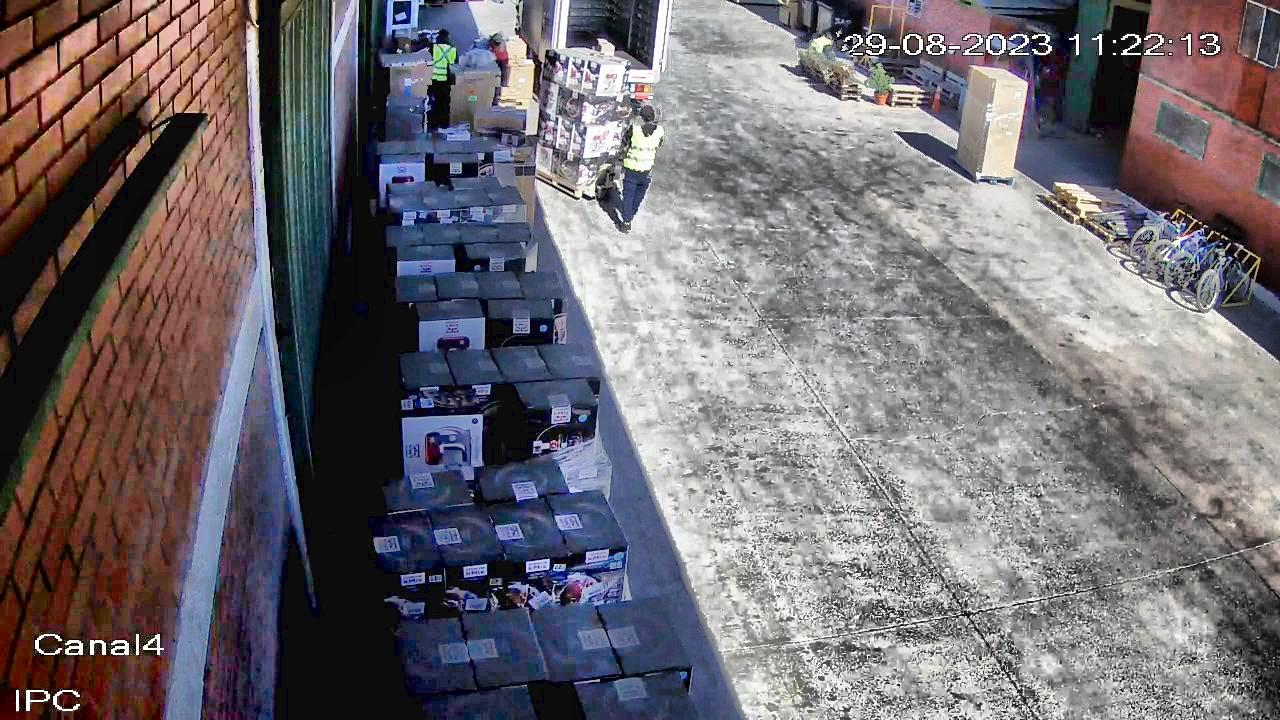con-casco: (483, 31, 508, 50)
con-chaleco: (616, 121, 667, 181), (421, 38, 461, 86), (809, 35, 837, 60)
persona: (595, 102, 676, 240), (411, 26, 468, 134), (478, 31, 520, 132), (798, 27, 854, 85)
sin-casco: (632, 101, 659, 126), (432, 25, 456, 43), (826, 32, 838, 43)
sin-chaleco: (481, 44, 514, 87)
